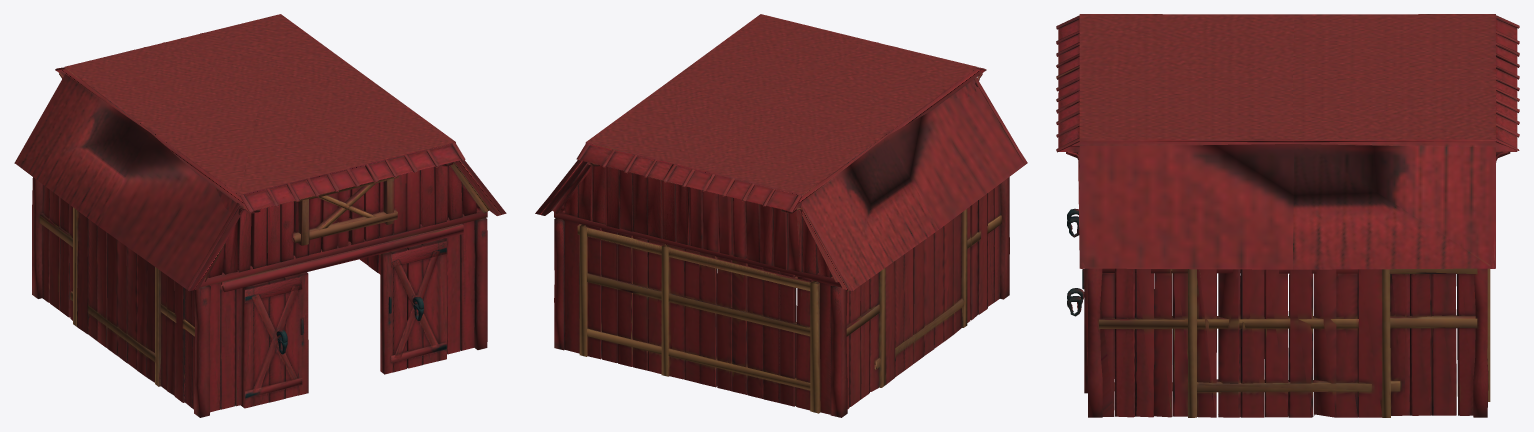
Rendered from barn.glb.
3 views of the same model, side by side, from view 1: azimuth 30°, elevation 25°; view 2: azimuth 150°, elevation 25°; view 3: azimuth 270°, elevation 25° (orthographic). The views are drawn at different scales.
Bounding box in the file's own units: 0.9019 × 0.5845 × 0.9517.
Materials: 1 (1 with a texture image).
